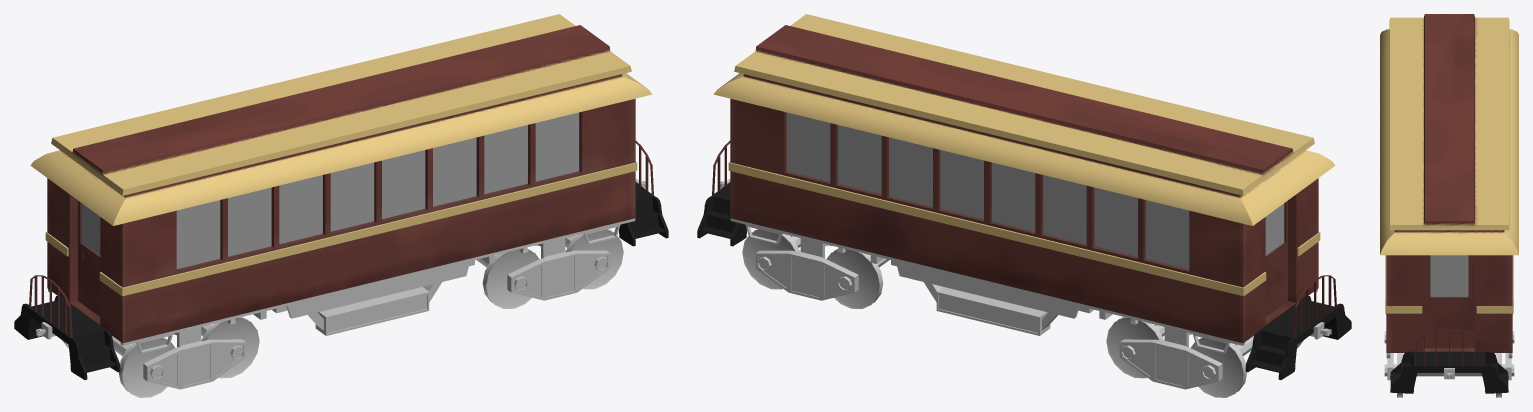
Rendered from VagaoPassageiros.fbx.
The picture shows the model from 3 angles, left to right: view 1: azimuth 30°, elevation 25°; view 2: azimuth 150°, elevation 25°; view 3: azimuth 270°, elevation 25°; orthographic projection. The views are drawn at different scales.
Visible parts, largest first — view 1: VagaoPassageiros; view 2: VagaoPassageiros; view 3: VagaoPassageiros.
Boxes of the visible parts, x1=… form: VagaoPassageiros: x1=14, y1=14, x2=668, y2=397; VagaoPassageiros: x1=697, y1=14, x2=1351, y2=397; VagaoPassageiros: x1=1380, y1=14, x2=1518, y2=397.
Size of the model in its own units: 1547 by 540 by 364.
